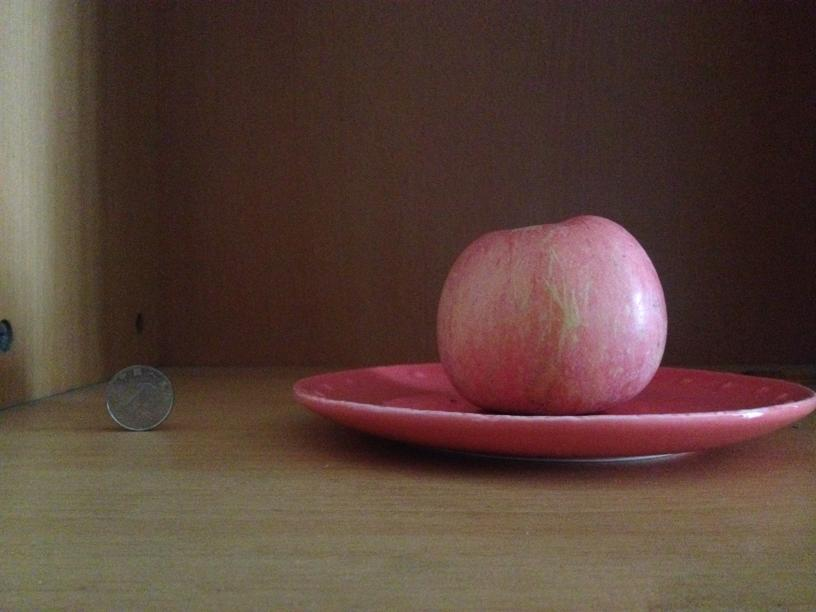apple: (428, 213, 671, 412)
coin: (105, 364, 173, 433)
